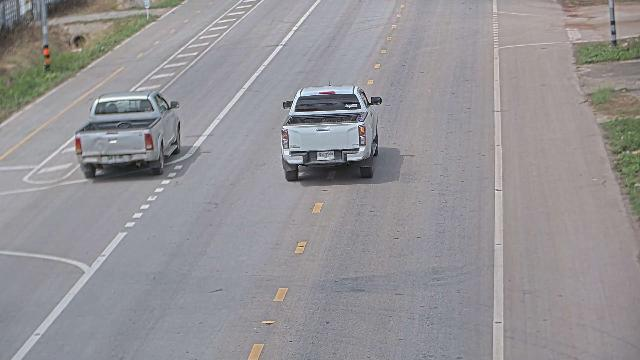pickup-truck: (280, 82, 382, 181), (74, 89, 181, 178)
